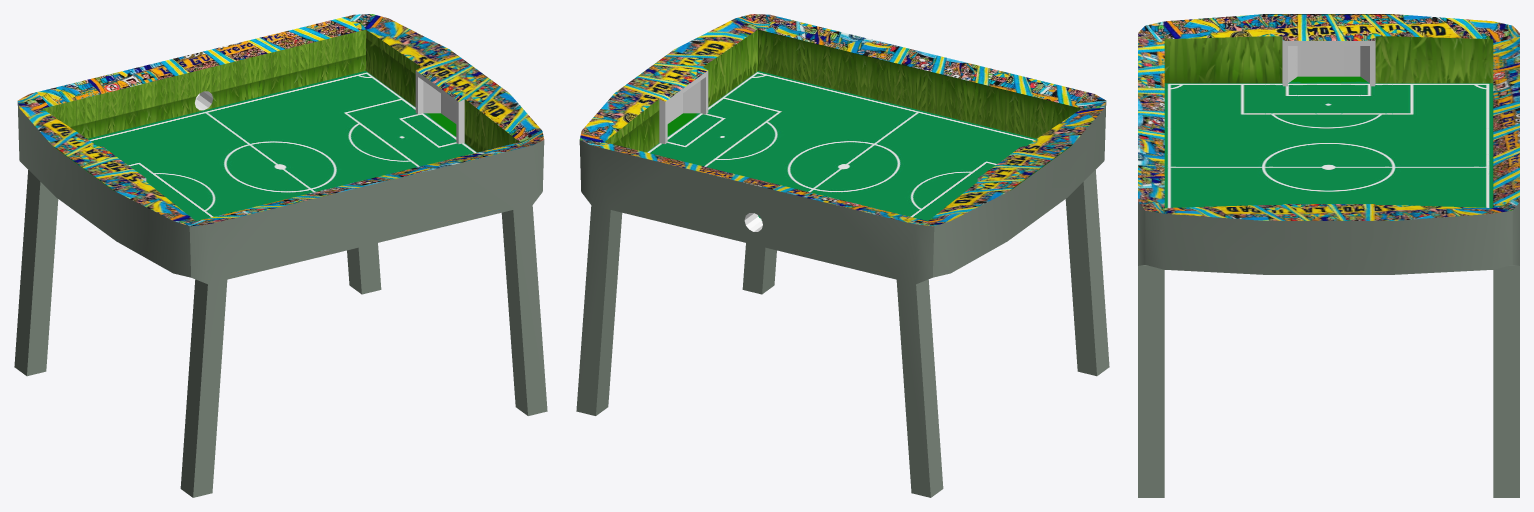
The model's file is MetelgolElGigante.fbx.
3 renders of one model, left to right at view 1: azimuth 30°, elevation 25°; view 2: azimuth 150°, elevation 25°; view 3: azimuth 270°, elevation 25°, orthographic. The views are drawn at different scales.
Parts seen in each view (by area): view 1: Metegol; view 2: Metegol; view 3: Metegol.
Part boxes in pixels (bbox=[...]): Metegol: bbox=[14, 14, 547, 497]; Metegol: bbox=[576, 14, 1109, 497]; Metegol: bbox=[1138, 14, 1519, 497].
Bounding box in the file's own units: 1.13 × 0.7329 × 0.88.
